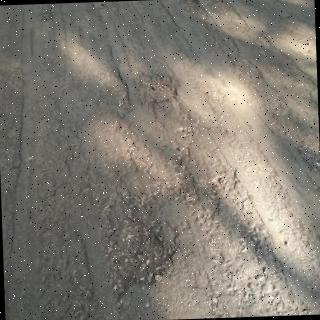pothole: (109, 216, 175, 299), (138, 78, 179, 106)
